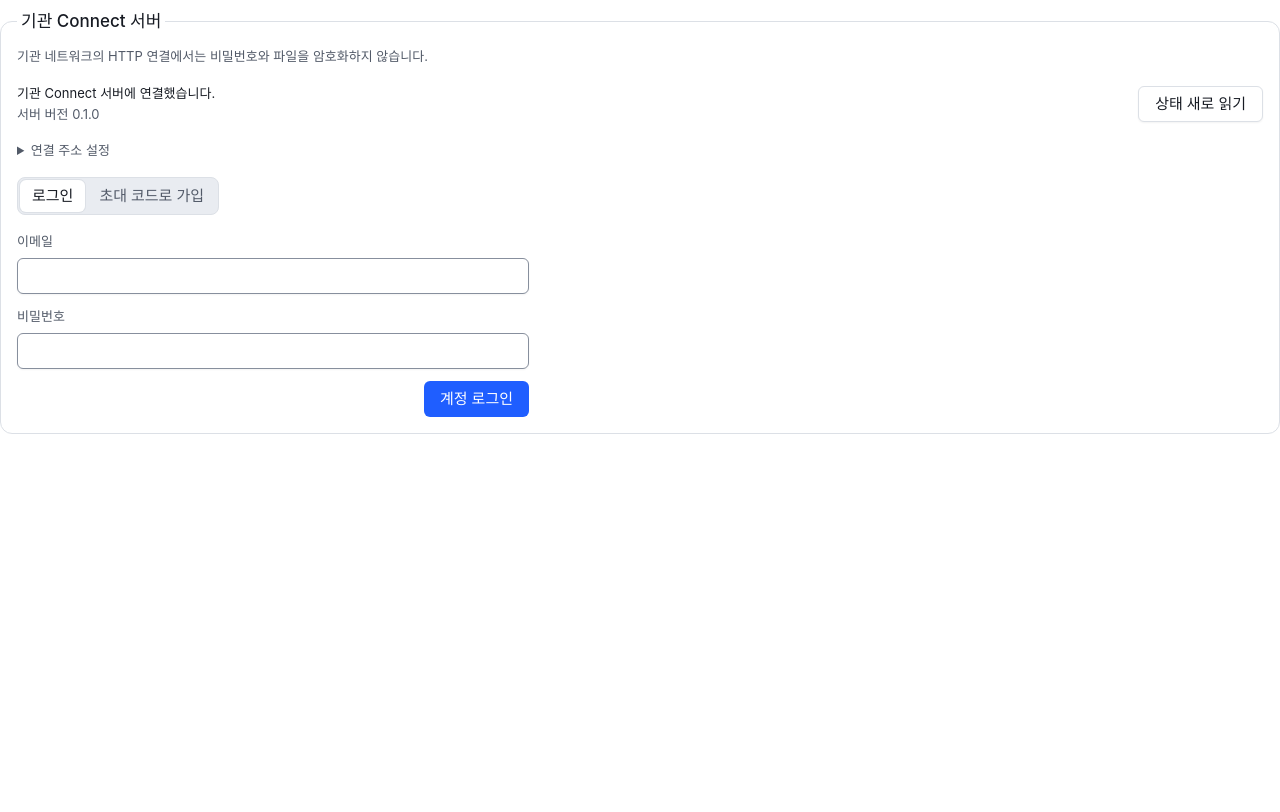
does not submit mismatched invite passwords and applies shared password rules
Click the button "초대 코드로 가입": point(152, 196) [87,180,216,212]
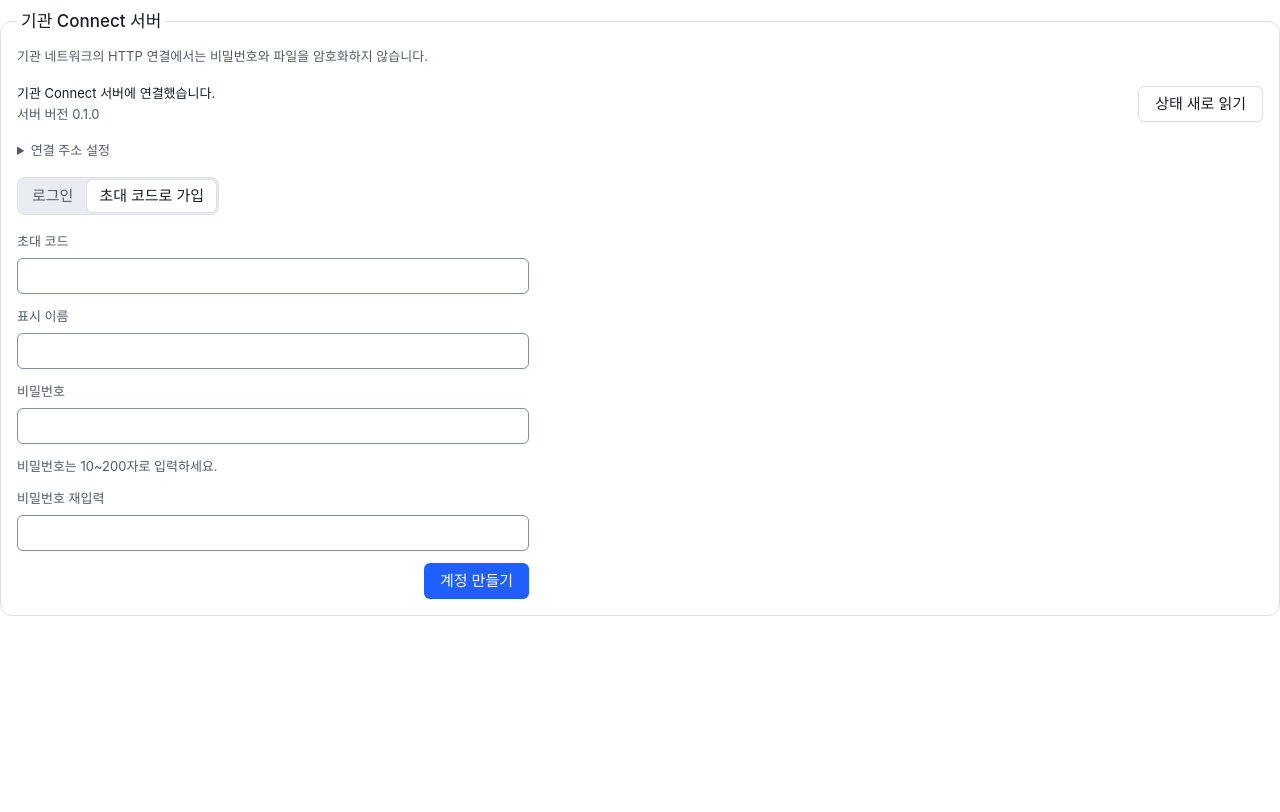
In the field labelled "초대 코드": point(273, 276) [17,258,529,294], type "invite-123"
In the field labelled "표시 이름": point(273, 351) [17,333,529,369], type "신연구"
In the password field labelled "비밀번호": point(273, 426) [17,408,529,444], type "long-password"
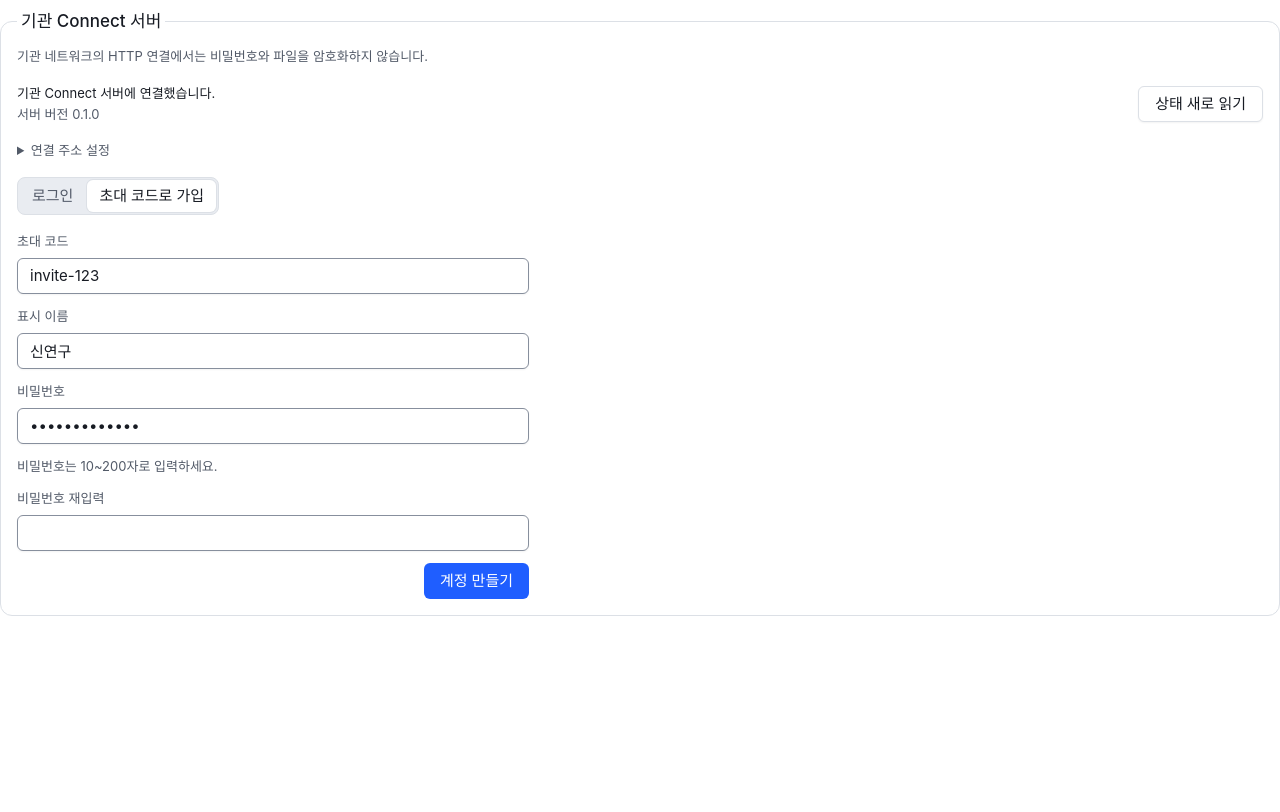
In the password field labelled "비밀번호 재입력": point(273, 533) [17,515,529,551], type "mismatched"
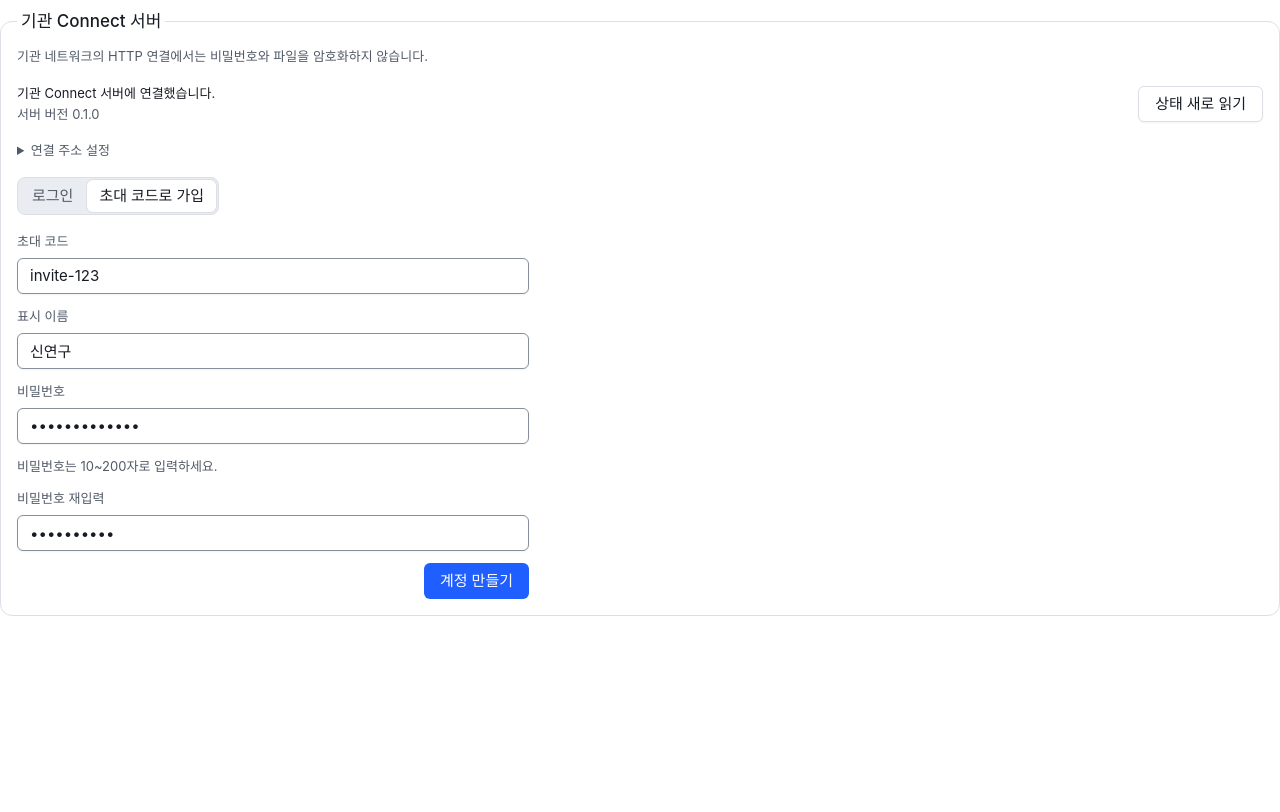
Expected: the password field labelled "비밀번호" has attribute minlength="10", [17,408,529,444]
Click the button "계정 만들기": point(476, 581) [424,563,529,599]
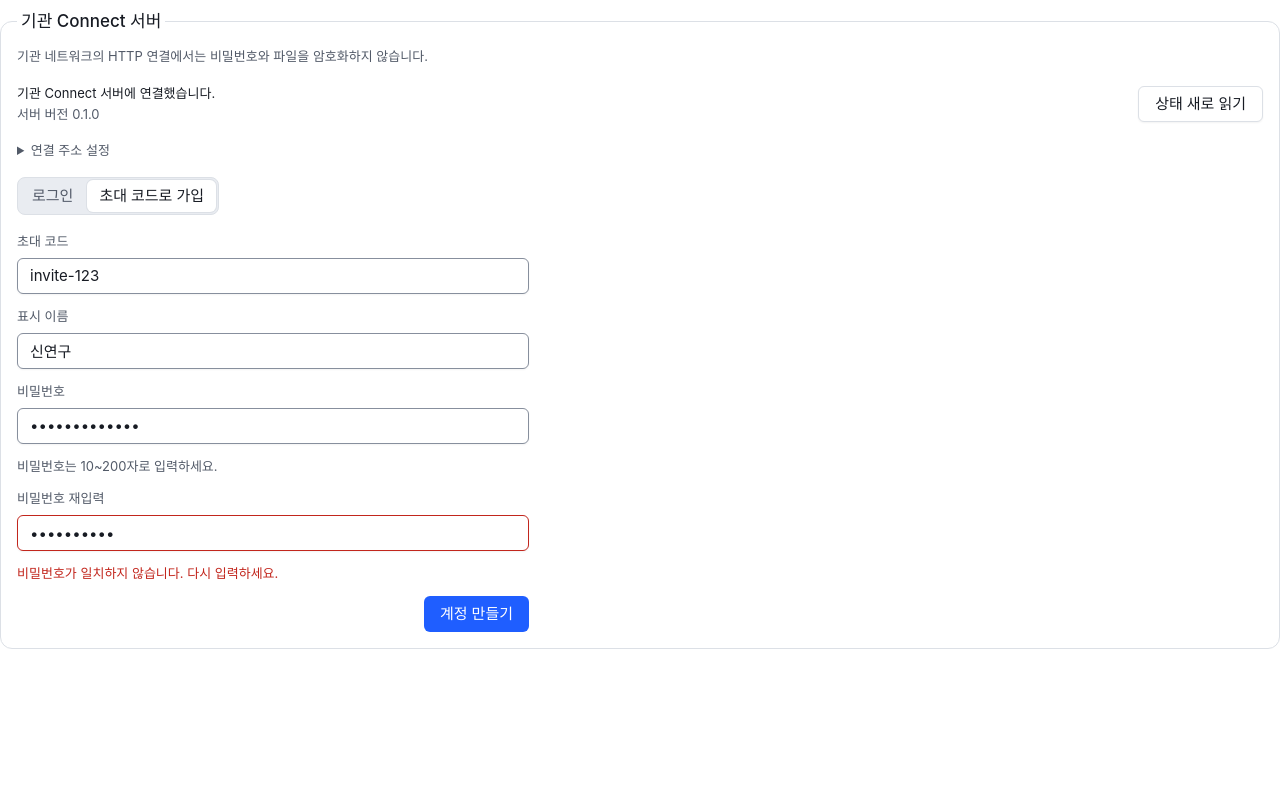
Expected: the message "비밀번호가 일치하지 않습니다. 다시 입력하세요." is shown, [17,565,278,581]
In the password field labelled "비밀번호 재입력": point(273, 533) [17,515,529,551], type "long-password"
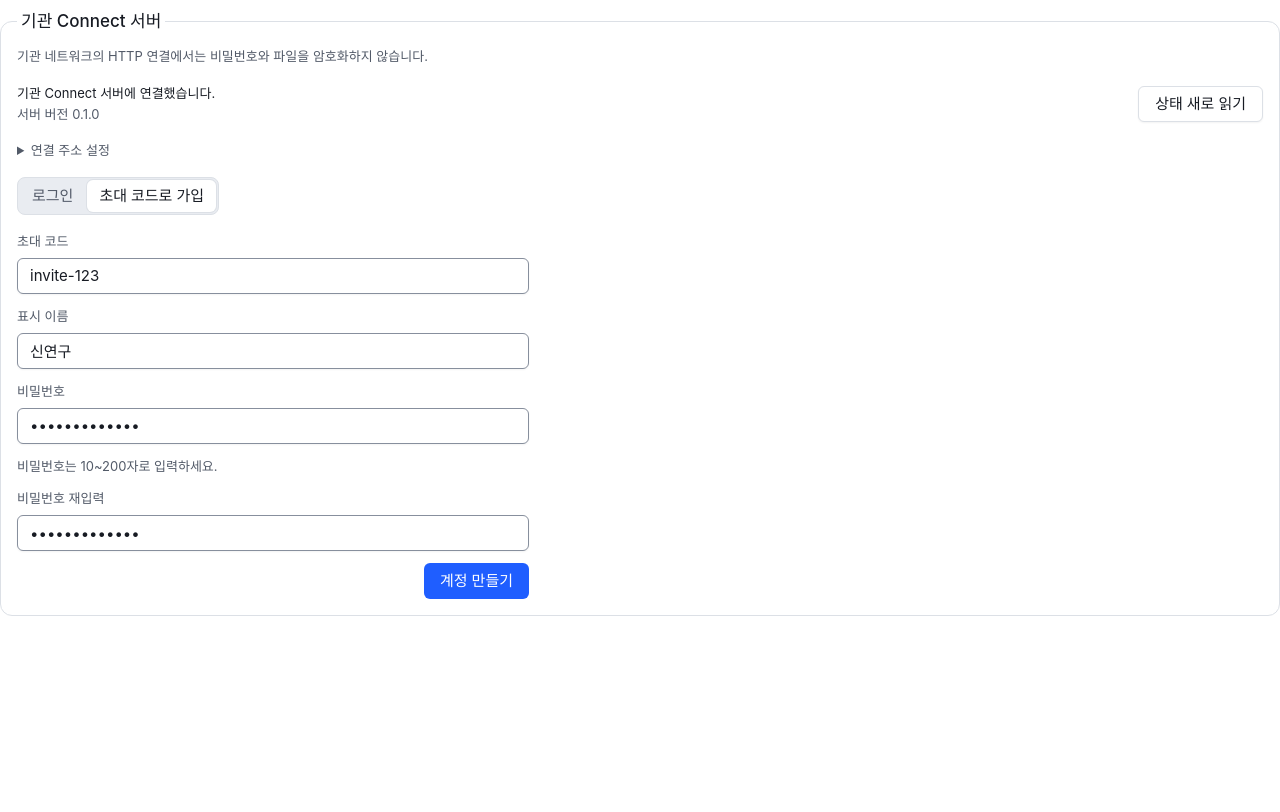
Click the button "계정 만들기": point(476, 581) [424,563,529,599]
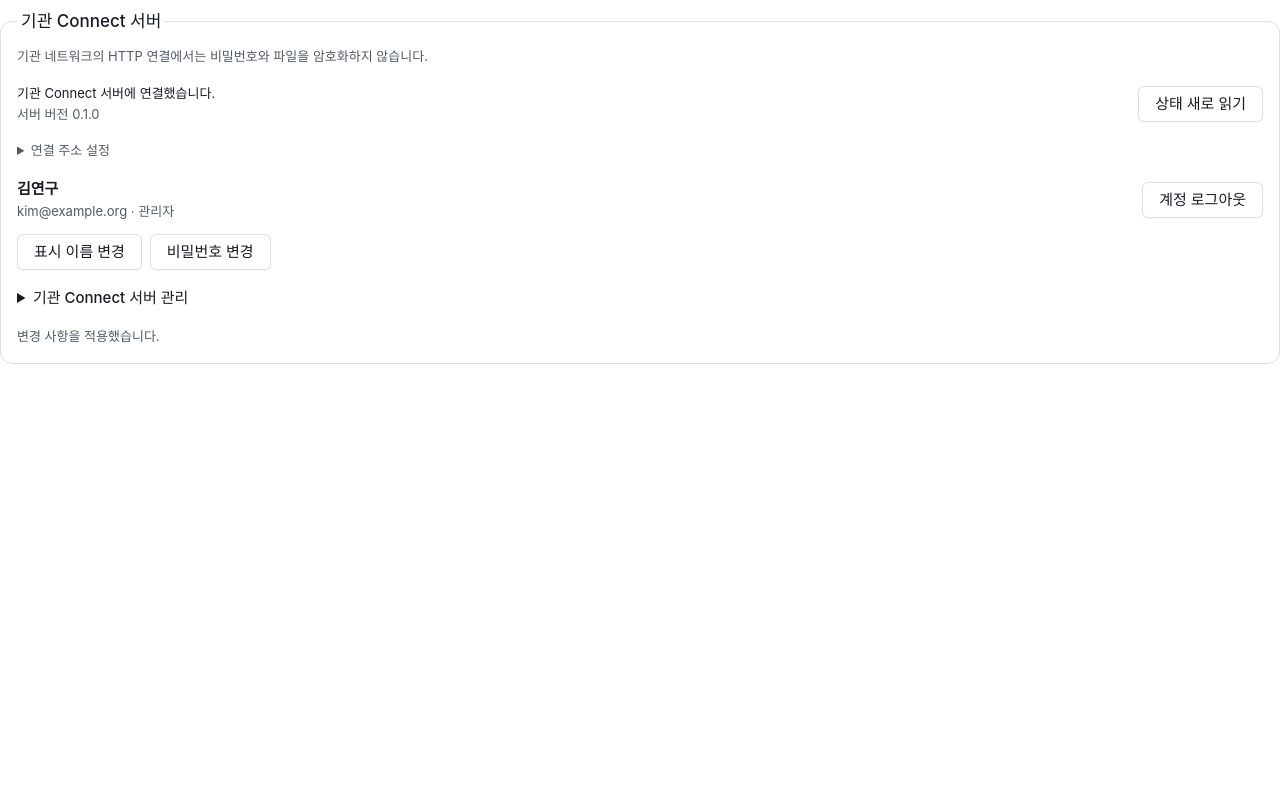
Expected: the text "김연구" is shown, [17,179,58,198]
